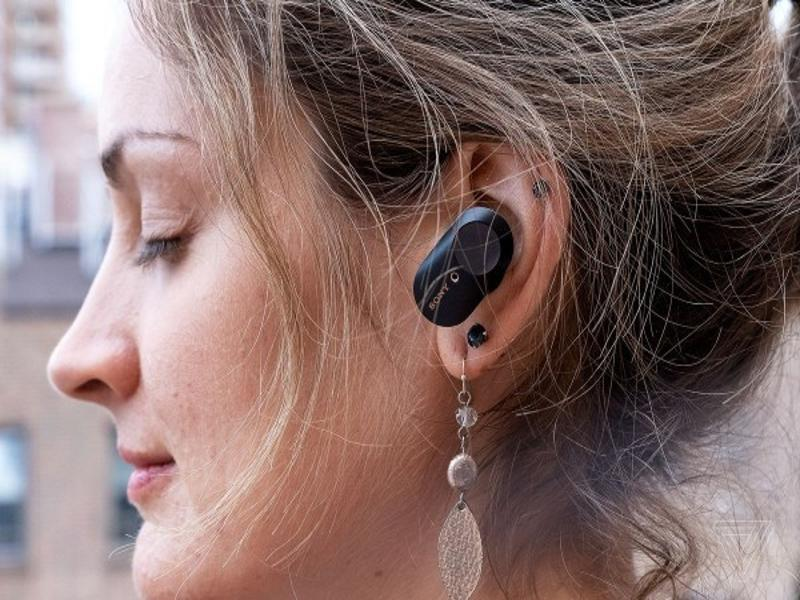headphone: (409, 205, 519, 327)
